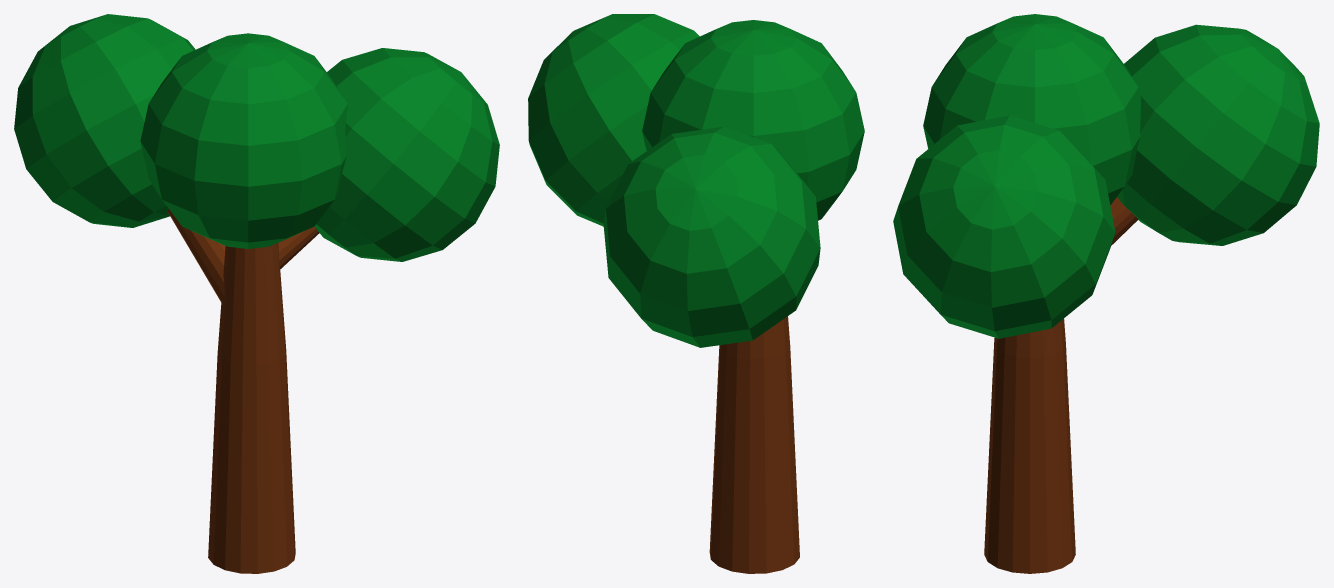
File: tree 1.fbx
3 views of the same model, side by side, from view 1: azimuth 30°, elevation 25°; view 2: azimuth 150°, elevation 25°; view 3: azimuth 270°, elevation 25° (orthographic). The views are drawn at different scales.
Parts seen in each view (by area): view 1: Sphere.001; view 2: Sphere.001; view 3: Sphere.001.
Boxes of the visible parts, x1=… form: Sphere.001: x1=14, y1=14, x2=499, y2=573; Sphere.001: x1=528, y1=14, x2=864, y2=573; Sphere.001: x1=893, y1=14, x2=1319, y2=573.
Bounding box in the file's own units: 929 × 1275 × 931.
